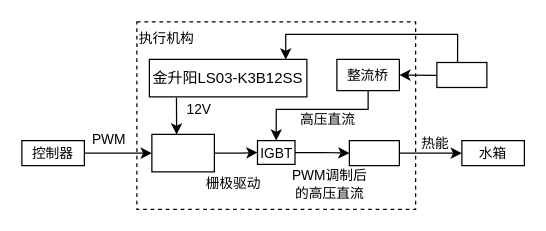
Some shapes in this 546 by 231 pixel diagram are drawn without their labels. Here are the shapes that lost their labels. From the top down, the box of each, then its label:
(436, 61, 487, 88): 市电
(151, 133, 214, 172): 光耦
(348, 139, 399, 166): 电热管
